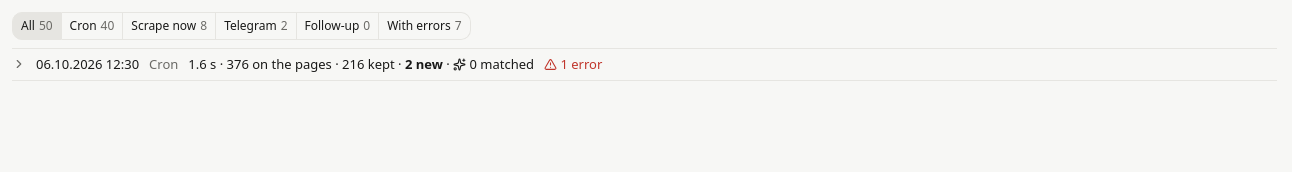
the runs log › opens a run to what each board added, then each scraper's error: its status and the site's message
This screenshot has width=1292, height=172.
Step 1. Click the button "06.10.2026" → [88, 64], box top-left (12, 49), bottom-right (1277, 80)
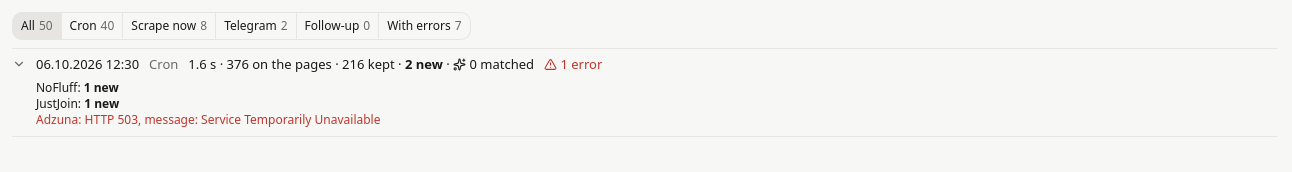
expect the list items read "NoFluff: 1 new", "JustJoin: 1 new", "Adzuna: HTTP 503, message: Service Temporarily Unavailable", in this order: met, box top-left (36, 79), bottom-right (119, 96); top-left (36, 95), bottom-right (119, 112); top-left (36, 111), bottom-right (380, 128)
